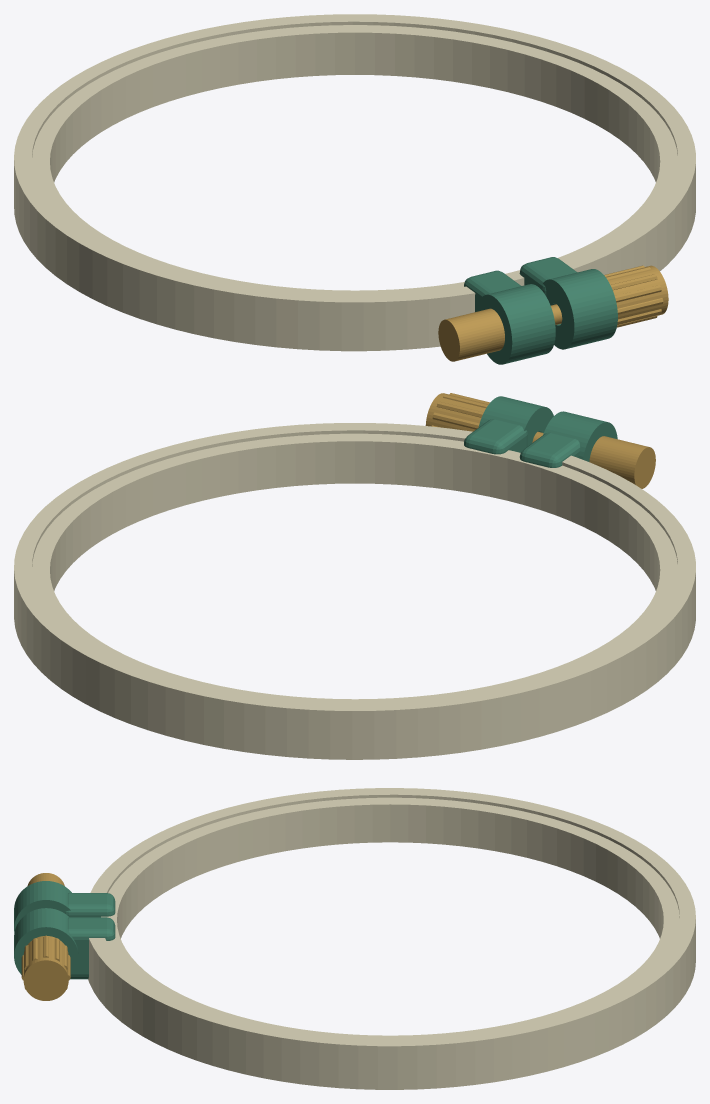
The model's file is full.fbx.
3 renders of one model, top to bottom at view 1: azimuth 30°, elevation 25°; view 2: azimuth 150°, elevation 25°; view 3: azimuth 270°, elevation 25°, orthographic. The views are drawn at different scales.
Visible parts, largest first — view 1: Split outer band, Continuous inner band, Clamp screw sleeve 1, Clamp screw sleeve -1, Captive screw nut, Ribbed adjustment knob, Clamp curved mounting foot 1, Clamp curved mounting foot -1; view 2: Split outer band, Continuous inner band, Captive screw nut, Clamp screw sleeve 1, Clamp screw sleeve -1, Clamp curved mounting foot 1, Clamp curved mounting foot -1, Ribbed adjustment knob; view 3: Split outer band, Continuous inner band, Ribbed adjustment knob, Clamp screw sleeve 1, Clamp curved mounting foot 1, Clamp screw sleeve -1, Clamp curved mounting foot -1.
Part boxes in pixels (<box>): Split outer band: <box>14,14,695,351</box>; Continuous inner band: <box>32,25,677,294</box>; Clamp screw sleeve 1: <box>543,269,617,349</box>; Clamp screw sleeve -1: <box>476,284,555,364</box>; Captive screw nut: <box>438,308,504,361</box>; Ribbed adjustment knob: <box>606,265,668,324</box>; Clamp curved mounting foot 1: <box>519,257,577,295</box>; Clamp curved mounting foot -1: <box>464,270,520,311</box>; Split outer band: <box>14,423,695,759</box>; Continuous inner band: <box>32,433,677,703</box>; Captive screw nut: <box>589,436,655,488</box>; Clamp screw sleeve 1: <box>478,396,553,445</box>; Clamp screw sleeve -1: <box>543,411,617,461</box>; Clamp curved mounting foot 1: <box>464,419,527,454</box>; Clamp curved mounting foot -1: <box>519,432,580,467</box>; Ribbed adjustment knob: <box>425,393,488,431</box>; Split outer band: <box>88,788,695,1089</box>; Continuous inner band: <box>101,797,679,1039</box>; Ribbed adjustment knob: <box>23,936,68,1000</box>; Clamp screw sleeve 1: <box>14,908,78,974</box>; Clamp curved mounting foot 1: <box>67,917,115,979</box>; Clamp screw sleeve -1: <box>14,881,71,931</box>; Clamp curved mounting foot -1: <box>65,893,115,917</box>.
Size of the model in its own units: 18.99 by 2 by 21.2.
